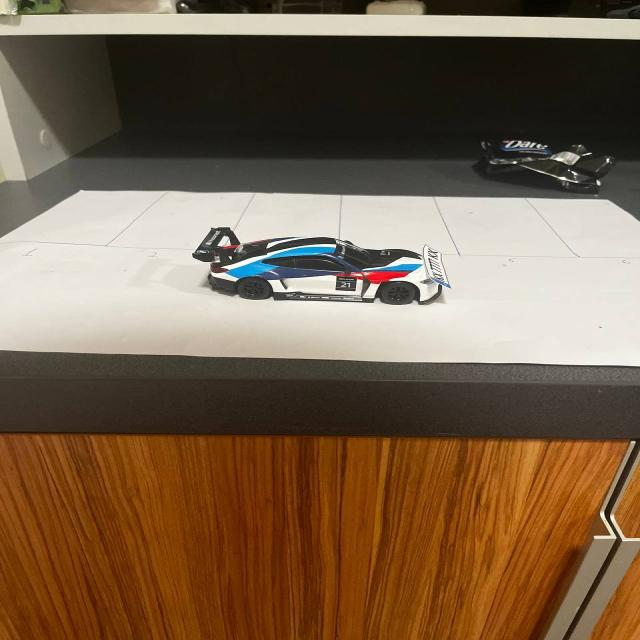cars: (174, 221, 475, 316)
